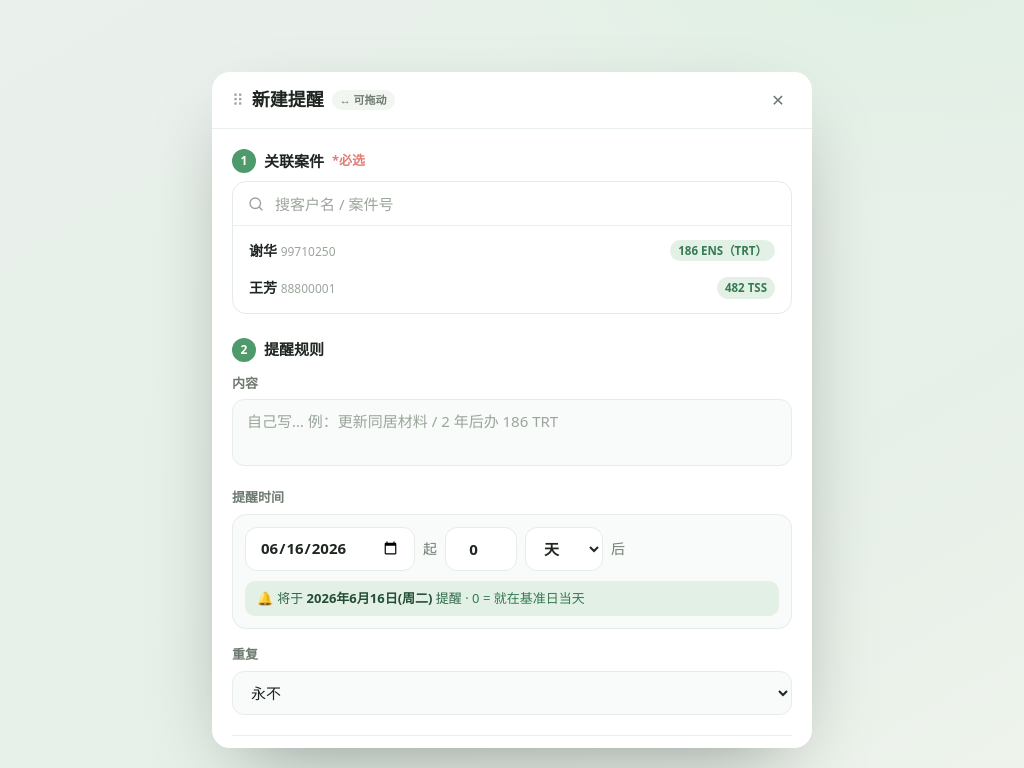
Test: ReminderPanel（新建提醒：必选已有案件 + 基准日 + 可拖动） › 案件搜索按客户名 / 案件号命中
Type "88800001" into the search field named "搜索案件" at (526, 204), box 275,182 -> 777,225
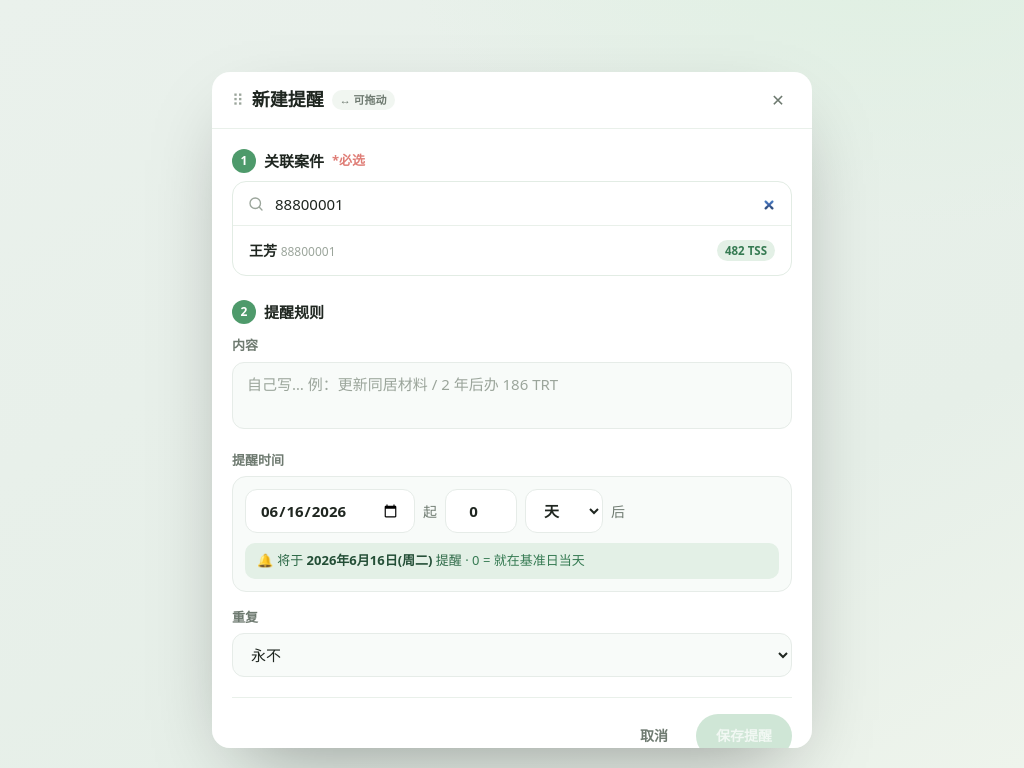
Expected: the button "王芳 88800001 482 TSS" is shown, 239,232 -> 785,269
Expected: the button "谢华" is gone
